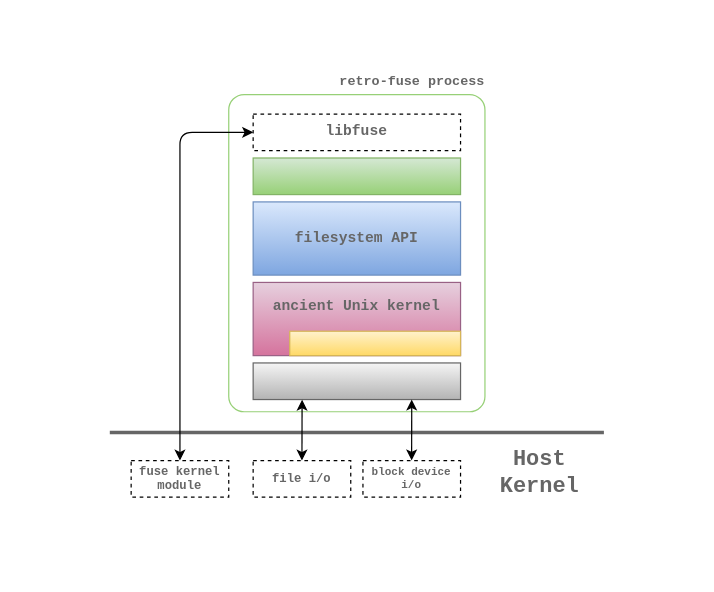
This 714x592 diagram has some shape labels left out. The centre of each missing label's shape, as x and y in pixels:
"adapter" belongs at pixel 375 343.
"dsk" belongs at pixel 356 381.
"fuse app" belongs at pixel 356 176.
